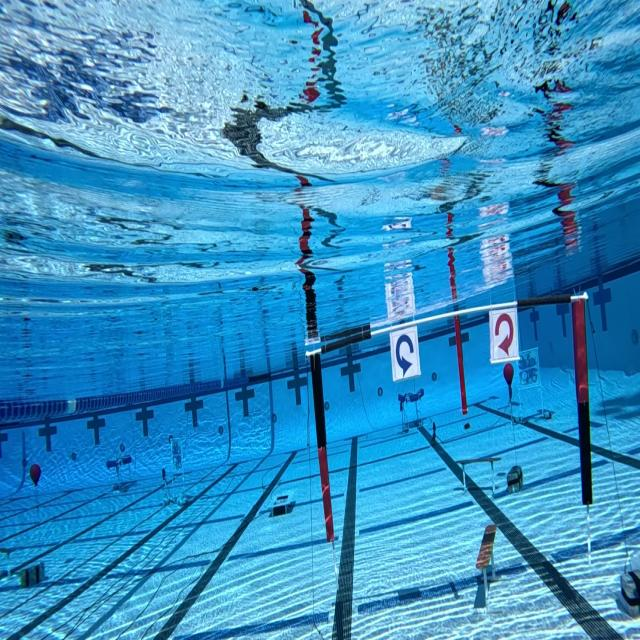blue_side: (386, 322, 424, 383)
red_side: (484, 301, 525, 369)
